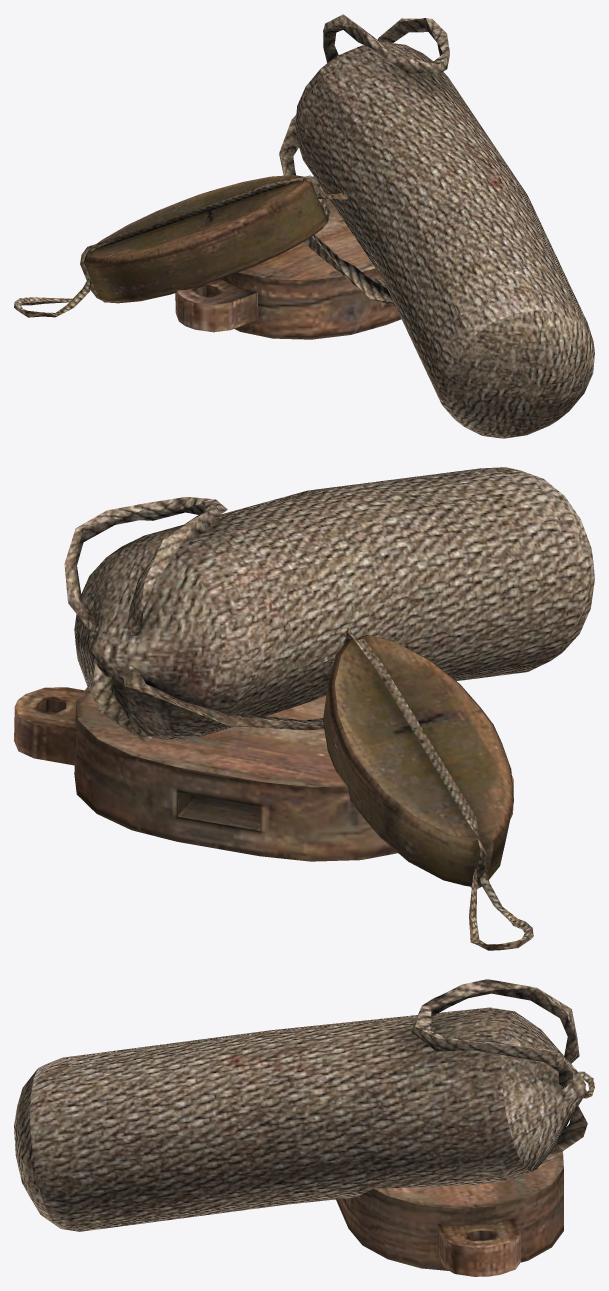
File: ship_rigging_pile_b.FBX
3 views of the same model, one above another, from view 1: azimuth 30°, elevation 25°; view 2: azimuth 150°, elevation 25°; view 3: azimuth 270°, elevation 25° (orthographic). The views are drawn at different scales.
Parts seen in each view (by area): view 1: ship_rigging_pile_b; view 2: ship_rigging_pile_b; view 3: ship_rigging_pile_b.
Part boxes in pixels (bbox=[...]): ship_rigging_pile_b: bbox=[14, 14, 594, 438]; ship_rigging_pile_b: bbox=[14, 467, 594, 950]; ship_rigging_pile_b: bbox=[14, 979, 594, 1276].
Bounding box in the file's own units: 36.7 × 39.03 × 19.61.
